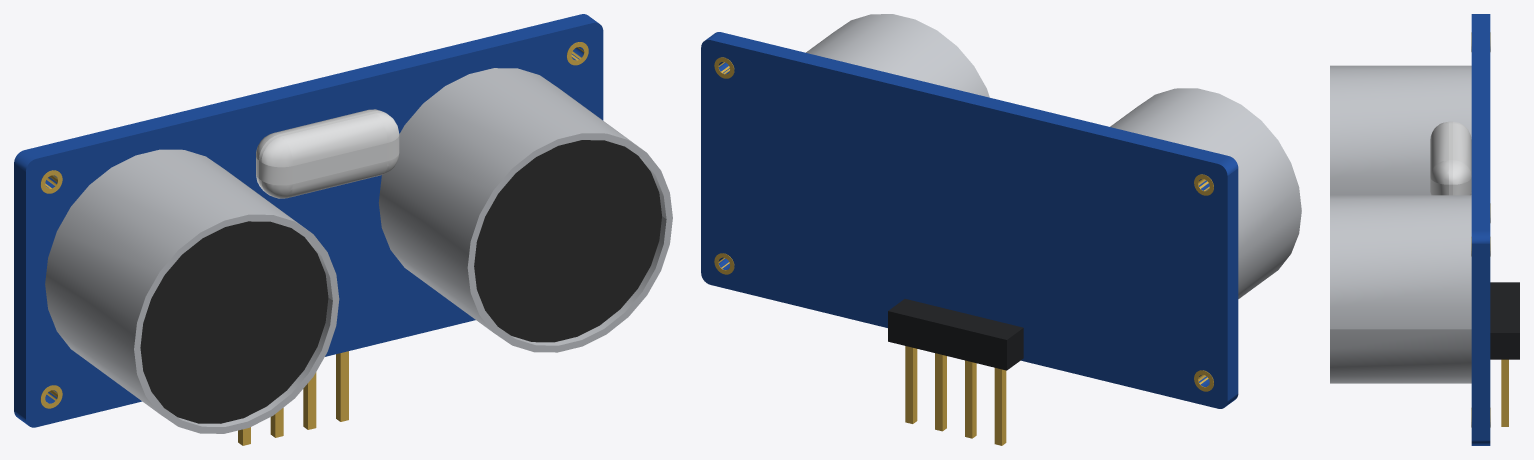
The model's file is sensor-hcsr04.glb.
3 views of the same model, side by side, from view 1: azimuth 30°, elevation 25°; view 2: azimuth 150°, elevation 25°; view 3: azimuth 270°, elevation 25° (orthographic). The views are drawn at different scales.
Parts seen in each view (by area): view 1: board, transmitter, receiver, transmitter_mesh, receiver_mesh, crystal, pins_pins; view 2: board, transmitter, receiver, pins, pins_pins; view 3: receiver, transmitter, board, crystal, pins, pins_pins.
Boxes of the visible parts, x1=… form: board: x1=14, y1=14, x2=603, y2=427; transmitter: x1=45, y1=149, x2=339, y2=433; receiver: x1=378, y1=68, x2=672, y2=352; transmitter_mesh: x1=140, y1=221, x2=328, y2=423; receiver_mesh: x1=474, y1=140, x2=661, y2=342; crystal: x1=256, y1=109, x2=399, y2=198; pins_pins: x1=238, y1=351, x2=348, y2=445; board: x1=701, y1=32, x2=1238, y2=408; transmitter: x1=1110, y1=88, x2=1301, y2=298; receiver: x1=806, y1=14, x2=989, y2=97; pins: x1=888, y1=299, x2=1023, y2=370; pins_pins: x1=905, y1=346, x2=1006, y2=445; receiver: x1=1330, y1=195, x2=1471, y2=383; transmitter: x1=1330, y1=65, x2=1471, y2=195; board: x1=1471, y1=14, x2=1490, y2=445; crystal: x1=1430, y1=121, x2=1471, y2=195; pins: x1=1490, y1=282, x2=1519, y2=359; pins_pins: x1=1501, y1=359, x2=1508, y2=426.
Bounding box in the file's own units: 45 × 26.5 × 16.1.
